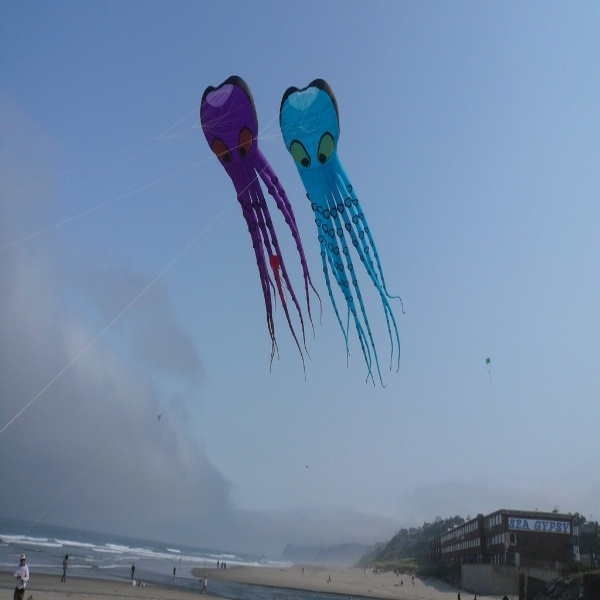Jellyfish: (279, 71, 408, 388), (199, 75, 323, 373)
